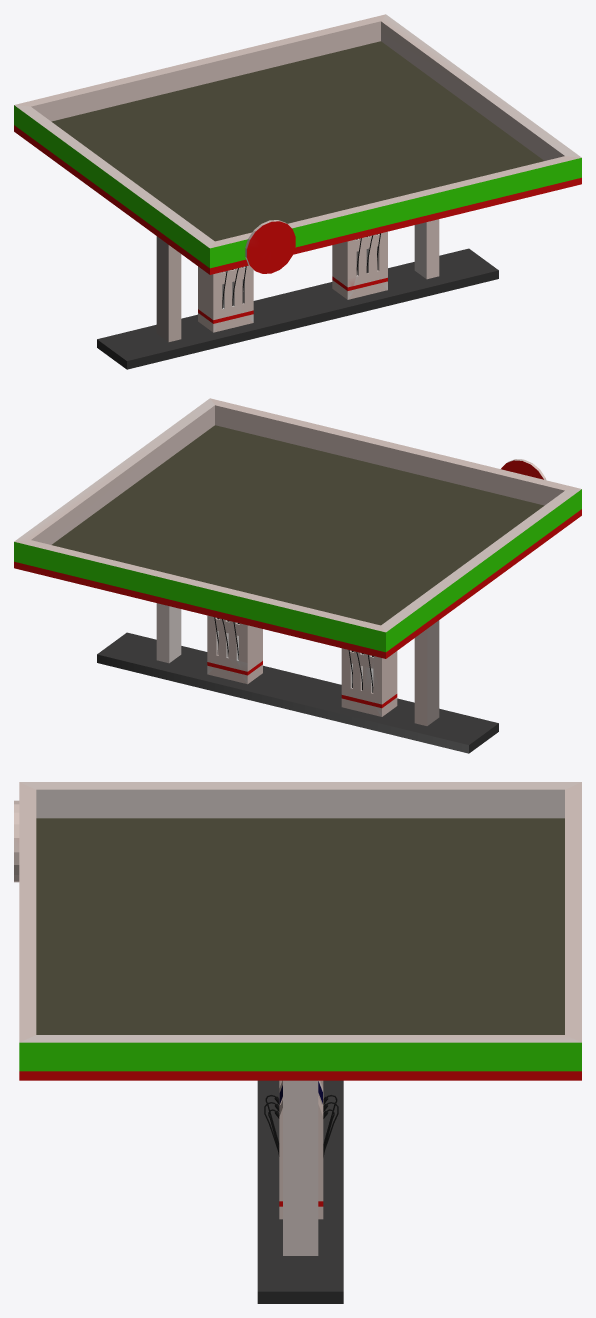
Rendered from SM_gastation.FBX.
3 views of the same model, one above another, from view 1: azimuth 30°, elevation 25°; view 2: azimuth 150°, elevation 25°; view 3: azimuth 270°, elevation 25° (orthographic). The views are drawn at different scales.
Visible parts, largest first — view 1: gastation; view 2: gastation; view 3: gastation.
Boxes of the visible parts, left/top/right/bottom form: gastation: left=14, top=14, right=581, bottom=369; gastation: left=14, top=398, right=581, bottom=753; gastation: left=14, top=782, right=581, bottom=1303.
Size of the model in its own units: 880 by 442 by 811.
